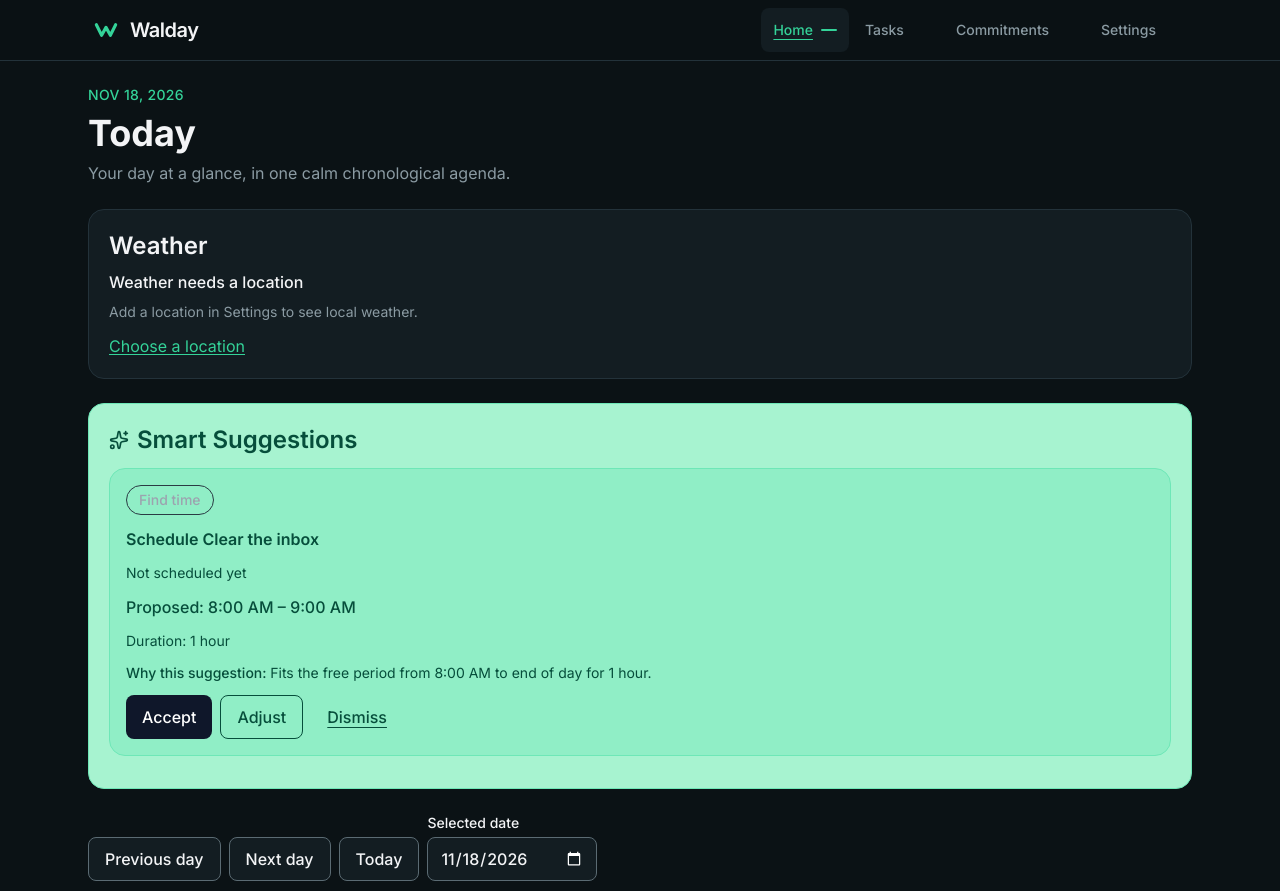
Scenario: Home suggestion dismissal memory and states (US5) › restores a dismissed card without applying it
Expected: the heading "Today" is shown, [88, 111, 196, 155]
Step 1. Click the button with aria-label "Dismiss the suggestion for Clear the inbox" → click(357, 717), box [311, 695, 403, 739]
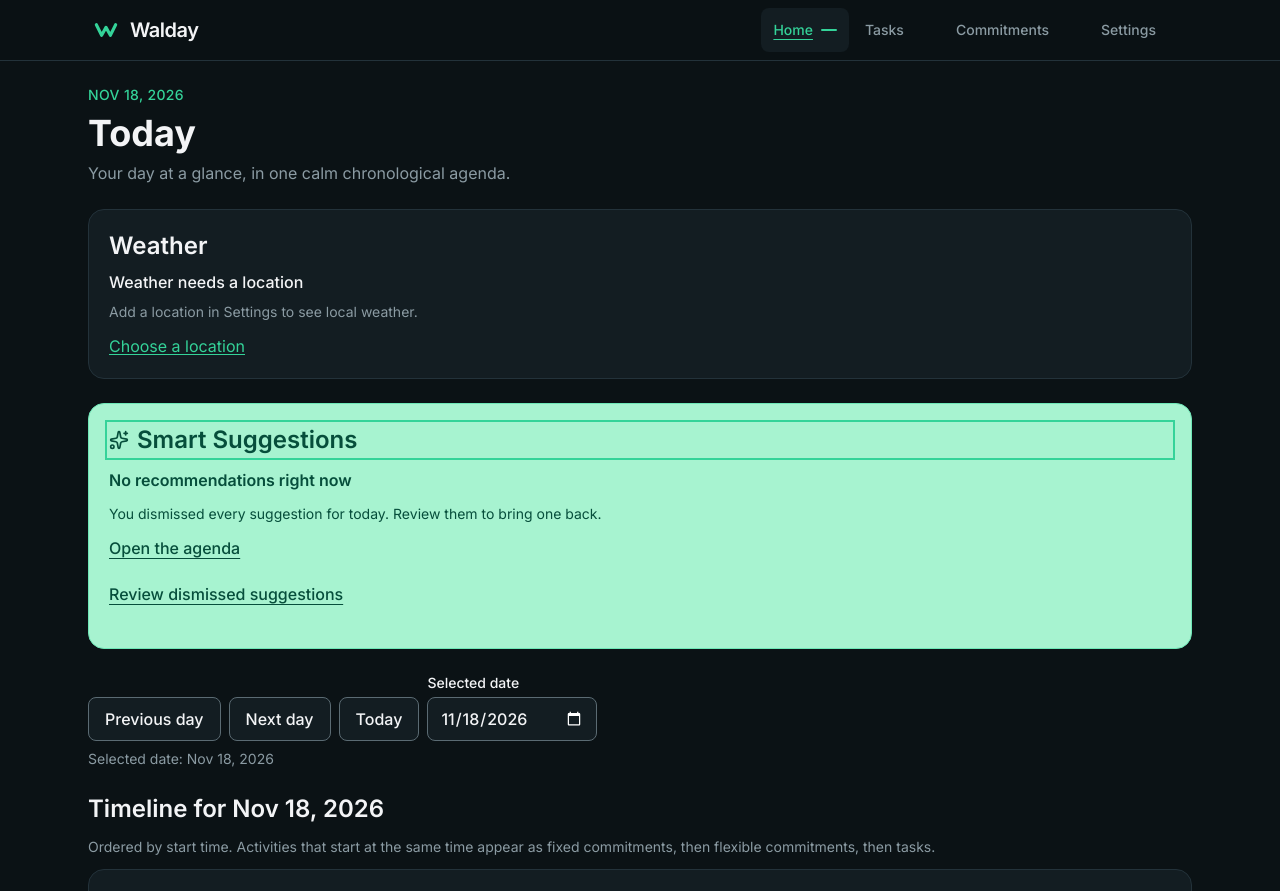
Expected: the button "Review dismissed suggestions" is shown
Step 2. Click the button "Review dismissed suggestions" → click(226, 594), box [109, 572, 343, 616]
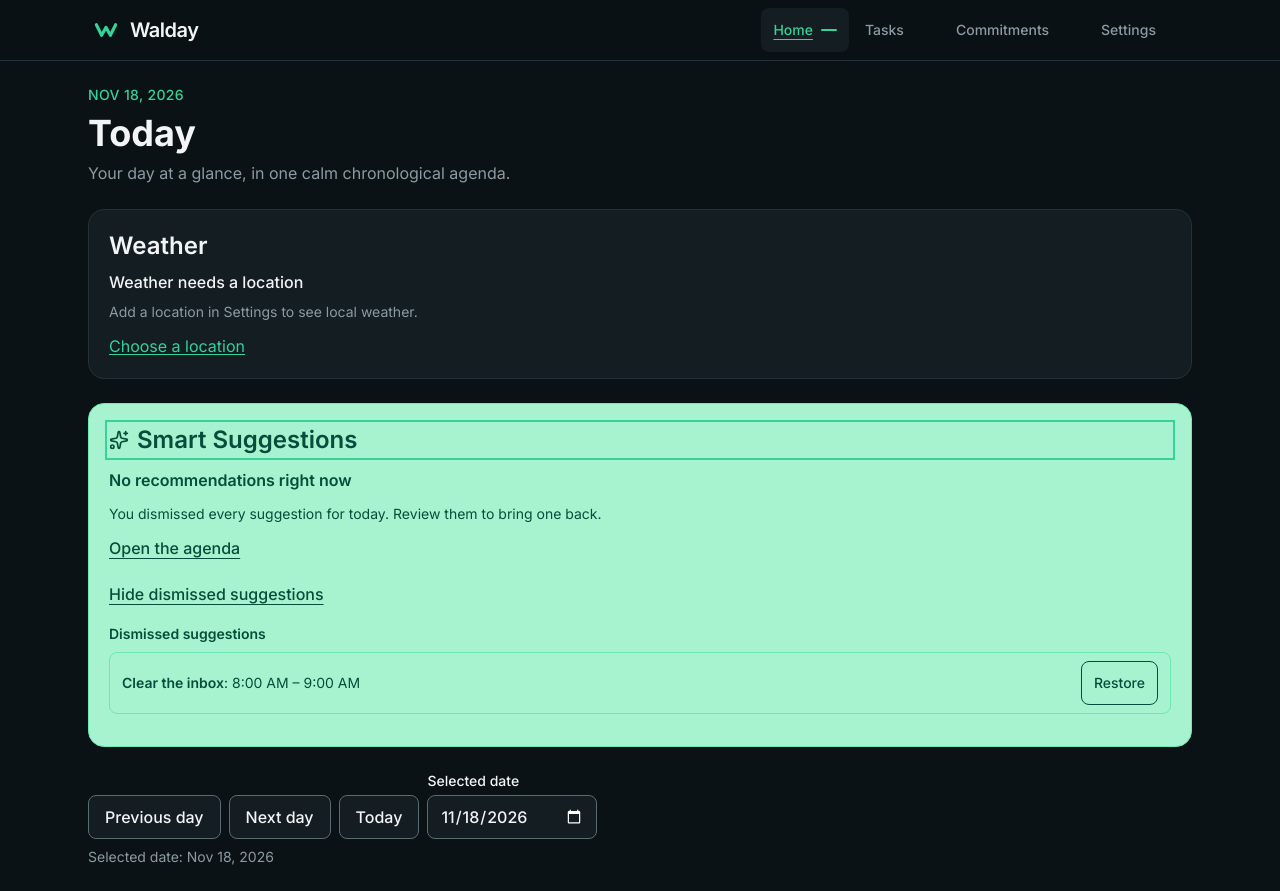
Step 3. Click the button with aria-label "Restore the suggestion for Clear the inbox" → click(1119, 683), box [1081, 661, 1158, 705]
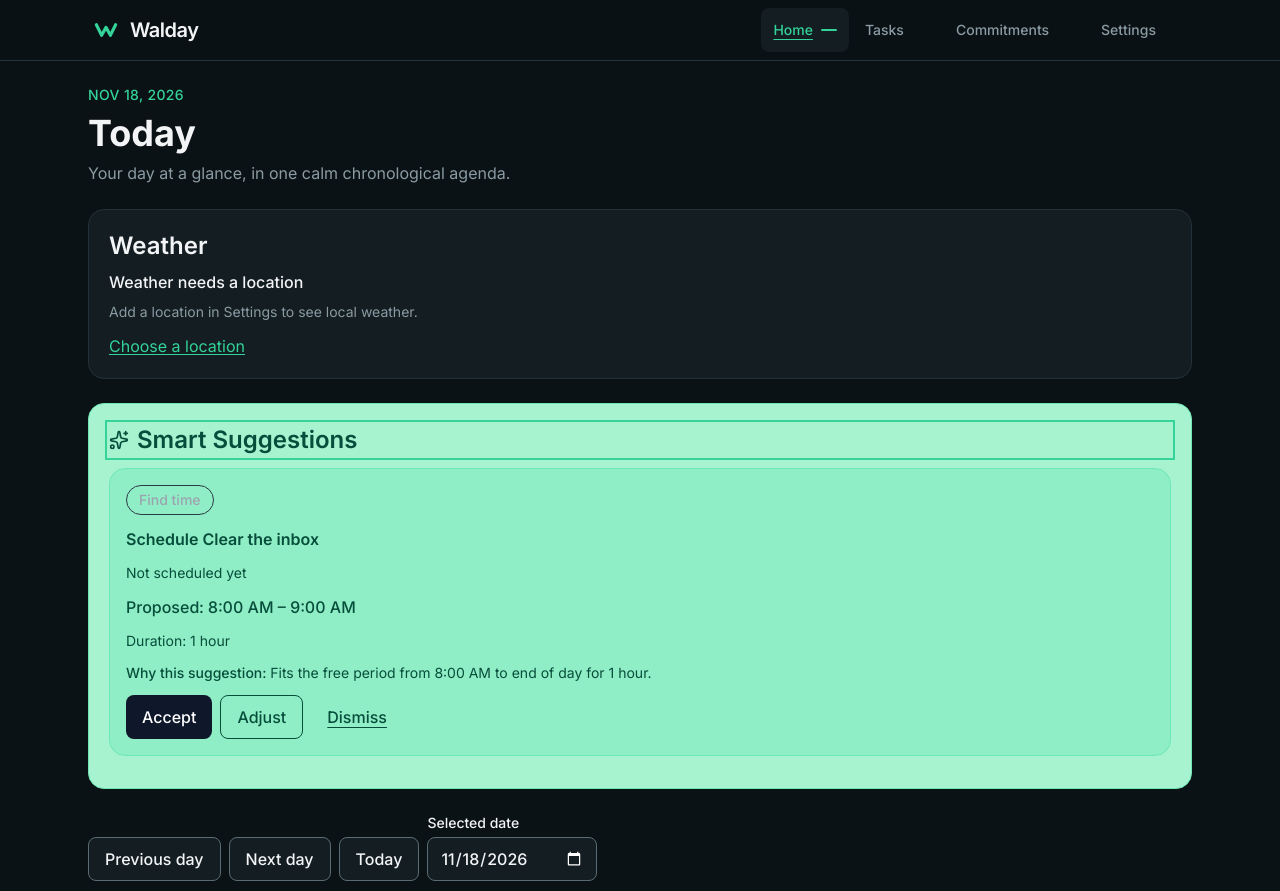
Expected: the button with aria-label "Accept: schedule Clear the inbox" is shown, [126, 695, 212, 739]
